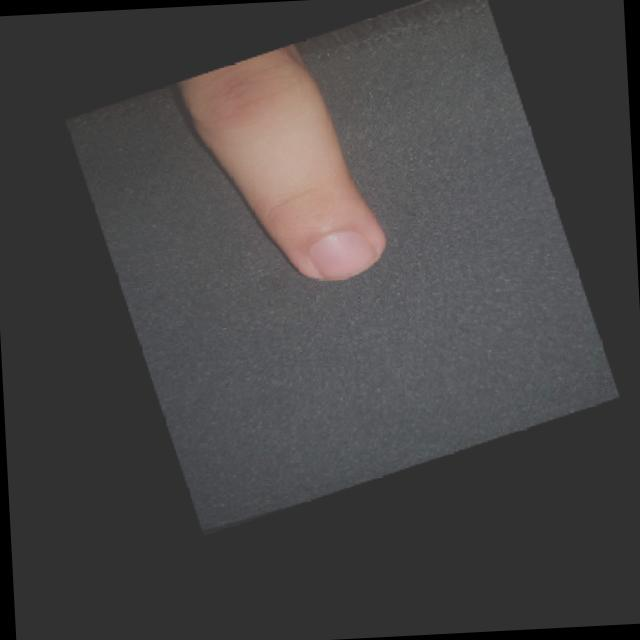Nail: (308, 231, 376, 281)
